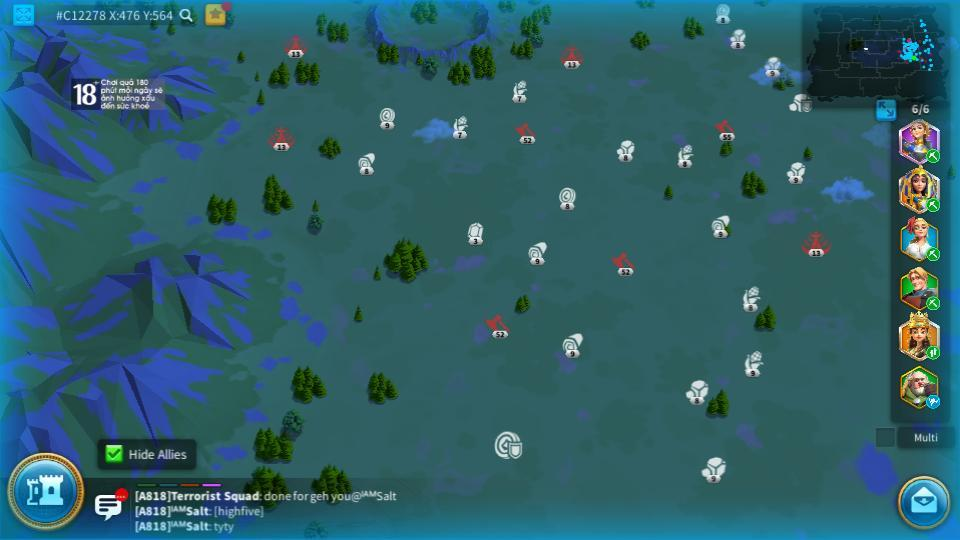gem-z-out: (465, 222, 485, 245)
march_idle: (925, 394, 941, 408)
march_marching: (925, 197, 941, 212), (925, 345, 941, 359), (925, 149, 941, 162), (925, 297, 941, 308)
